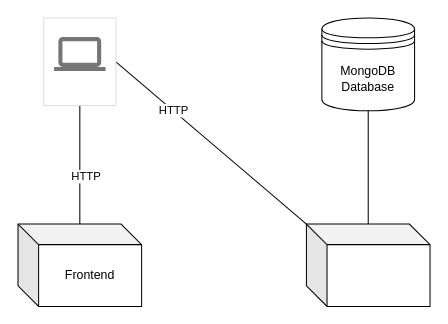
Image size: 448x324. Some labels were removed from this diagram. Here are the shapes that lost their labels. From the top down, the centre of each, then its label:
point 79,61: Browser
point 367,264: Tagging Service
